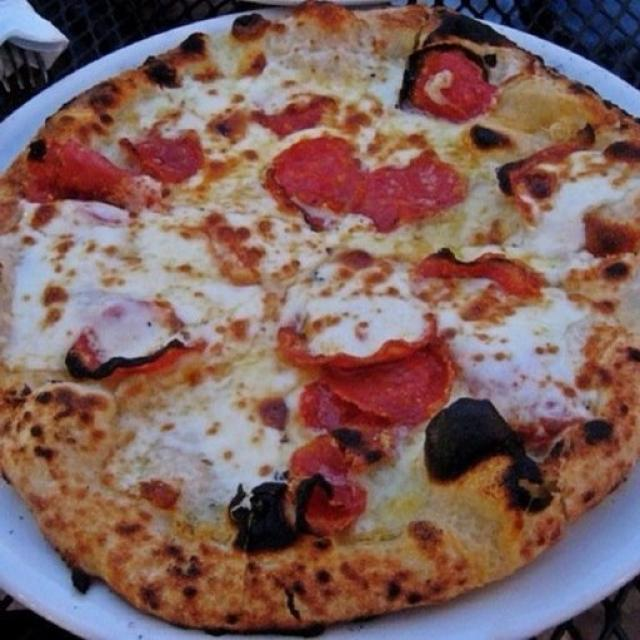Pepperoni: (273, 288, 443, 380), (334, 322, 452, 432), (278, 377, 397, 474), (45, 309, 199, 371), (393, 44, 499, 126), (30, 142, 157, 205), (413, 239, 538, 296), (362, 154, 458, 226), (275, 461, 368, 534), (267, 140, 360, 211), (129, 108, 209, 178)
Pizza: (0, 4, 640, 631)
